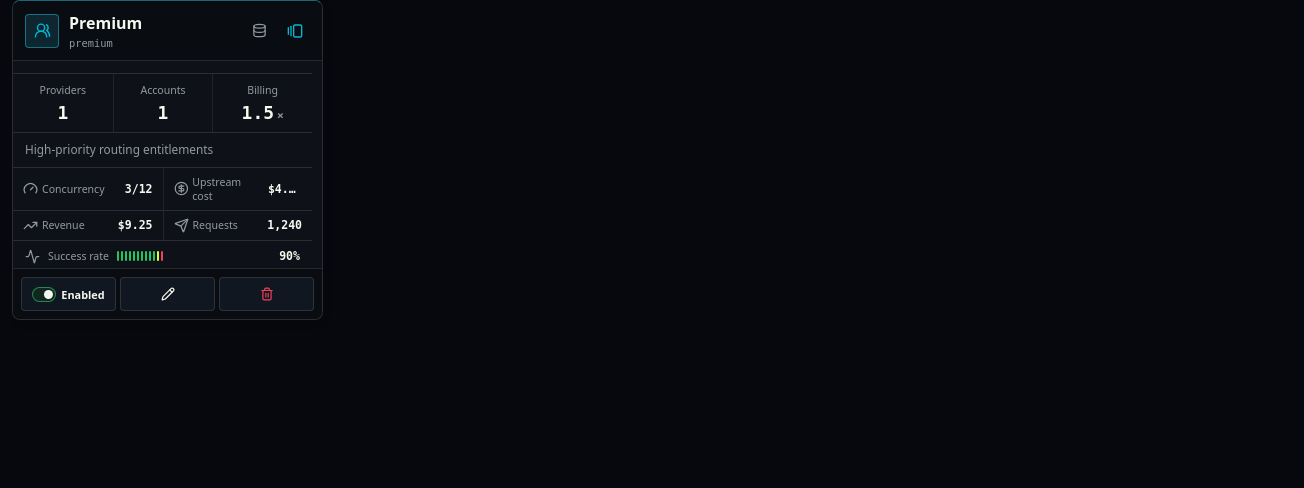
Test: CredentialGroupsWorkspace › expands the account panel from the card's top-right toggle
Expected: the number of switches with class "nt-entitlement-group-card__action--icon" is 3, [21,277,116,311]; [120,277,215,311]; [219,277,314,311]
Click the button named "Show Premium group accounts": (259, 30) [244,16,274,46]
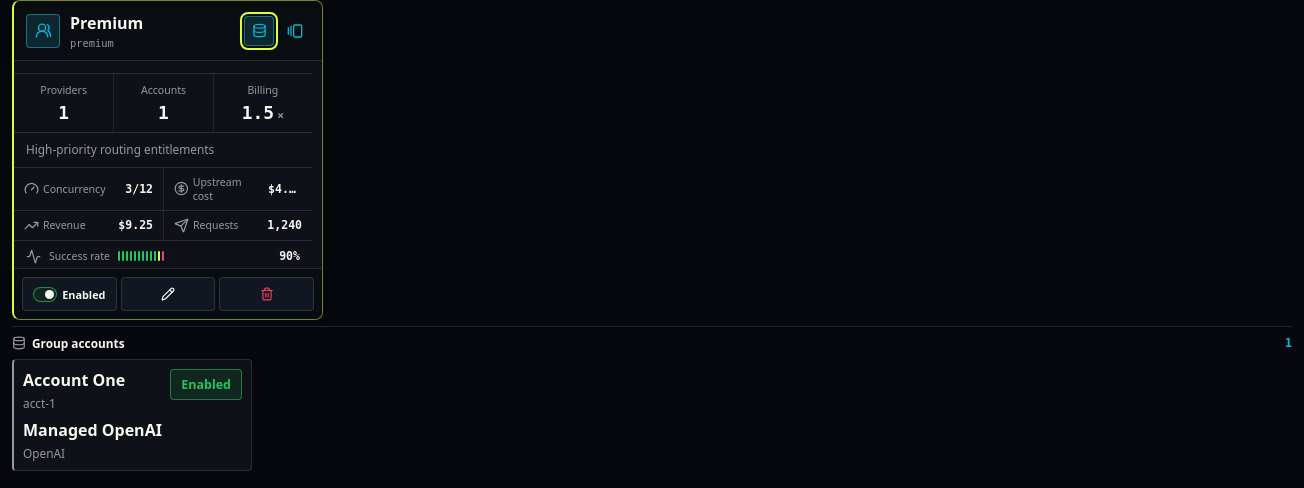
Expected: the button named "Show Premium group accounts" is expanded, [244,16,274,46]
Expected: the element named "Premium group accounts" is shown, [12,326,1292,471]
